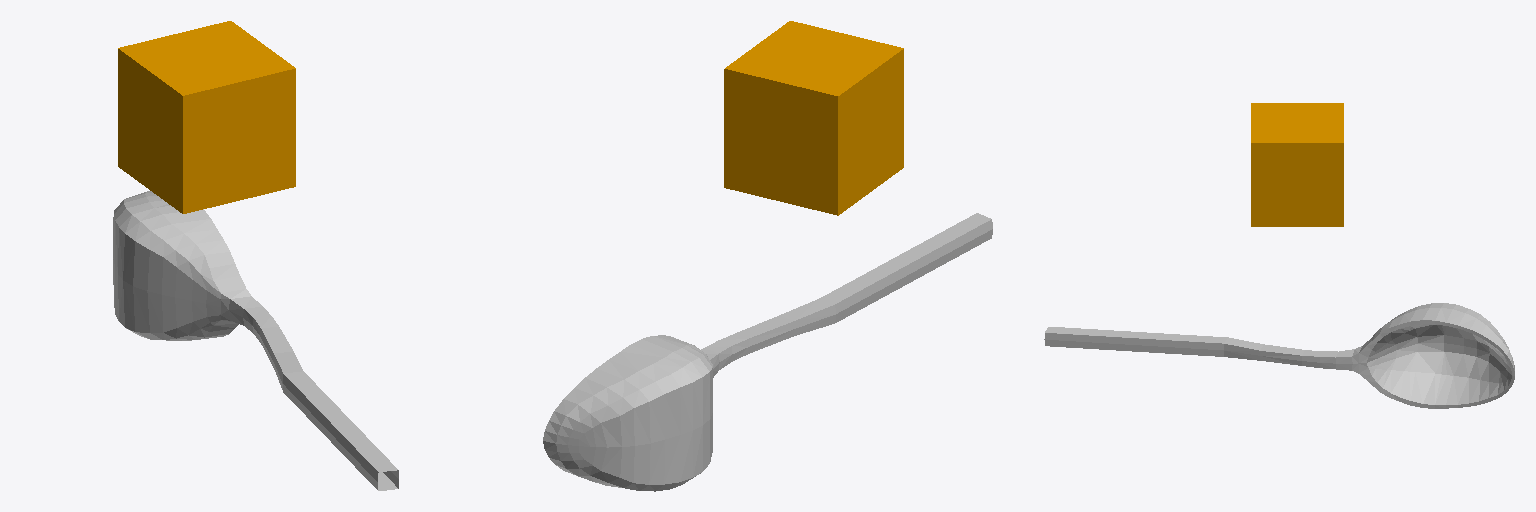
URDF robot description (spoon):
<?xml version="1.0" ?>
<robot name="spoon">
    <link name="cube_spoon">
        <visual>
            <origin xyz="0.0 0.0 0.0" rpy="0.0 0.0 0.0"/>
            <geometry>
                <box size="0.04 0.04 0.04"/>
            </geometry>    
        </visual>
        <collision>
            <origin xyz="0.0 0.0 0.0" rpy="0.0 0.0 0.0"/>
            <geometry>
                <box size="0.04 0.04 0.04"/>
            </geometry>    
        </collision>
    </link>

    <!-- <link name="fix1">
        <visual>
            <origin xyz="0.016 0 0.02" rpy="0.0 0.0 0.0"/>
            <geometry>
                <box size="0.008 0.08 0.02"/>
            </geometry> 
        </visual>
        <collision>
            <origin xyz="0.016 0 0.02" rpy="0.0 0.0 0.0"/>
            <geometry>
                <box size="0.005 0.08 0.02"/>
            </geometry>  
        </collision>
    </link>
    <joint name="joint_name1" type="fixed">
        <parent link="fix1"/>
        <child link="cube_spoon"/>
    </joint>
    <link name="fix2">
        <visual>
            <origin xyz="-0.016 0 0.02" rpy="0.0 0.0 0.0"/>
            <geometry>
                <box size="0.008 0.08 0.02"/>
            </geometry> 
        </visual>
        <collision>
            <origin xyz="-0.016 0 0.02" rpy="0.0 0.0 0.0"/>
            <geometry>
                <box size="0.008 0.08 0.02"/>
            </geometry>     
        </collision>
    </link>
    <joint name="joint_name2" type="fixed">
        <parent link="cube_spoon"/>
        <child link="fix2"/>
    </joint>

    <link name="fix3">
        <visual>
            <origin xyz="0 0 0.04" rpy="0.0 0.0 0.0"/>
            <geometry>
                <box size="0.042 0.042 0.01"/>
            </geometry> 
        </visual>
        <collision>
            <origin xyz="0 0 0.04" rpy="0.0 0.0 0.0"/>
            <geometry>
                <box size="0.042 0.042 0.01"/>
            </geometry>     
        </collision>
    </link>
    <joint name="joint_name3" type="fixed">
        <parent link="cube_spoon"/>
        <child link="fix3"/>
    </joint> -->
    
    <link name="spoon">
        <visual>
            <origin xyz="0 0 -0.08" rpy="3.14 0 0"/>
            <geometry>
                <mesh filename="spoon.dae"/>
            </geometry>
        </visual>
        <collision>
            <origin xyz="0 0 -0.08" rpy="3.14 0 0"/>
            <geometry>
                <mesh filename="spoon.dae"/>
            </geometry>
        </collision>
        <inertial>
            <mass value="0.5"/> 
            <inertia ixx="0.0" ixy="0.0" ixz="0.0" iyy="0.0" iyz="0.0" izz="0.0"/>
        </inertial>
    </link>
    <joint name="joint_name" type="fixed">
        <parent link="cube_spoon"/>
        <child link="spoon"/>
    </joint>
    
</robot>

--- What the picture shows (computed from the rendered views, not written in the file) ---
3 views of the same robot in one strip: view 1: azimuth 30°, elevation 25°; view 2: azimuth 150°, elevation 25°; view 3: azimuth 270°, elevation 25° (orthographic).
Model spoon with 2 links and 1 joints (1 fixed), rooted at cube_spoon, posed every joint at zero.
Links seen in each view (by area): view 1: cube_spoon, spoon; view 2: spoon, cube_spoon; view 3: spoon, cube_spoon.
Boxes of the visible links, x1=… form: cube_spoon: x1=118, y1=21, x2=295, y2=213; spoon: x1=113, y1=191, x2=398, y2=490; spoon: x1=543, y1=213, x2=992, y2=491; cube_spoon: x1=724, y1=21, x2=903, y2=215; spoon: x1=1044, y1=303, x2=1514, y2=408; cube_spoon: x1=1251, y1=103, x2=1343, y2=226.
Size in the robot's own frame: 0.0614 by 0.2015 by 0.121 metres.
1 mesh visuals loaded from 1 distinct referenced files (1 Collada DAE).